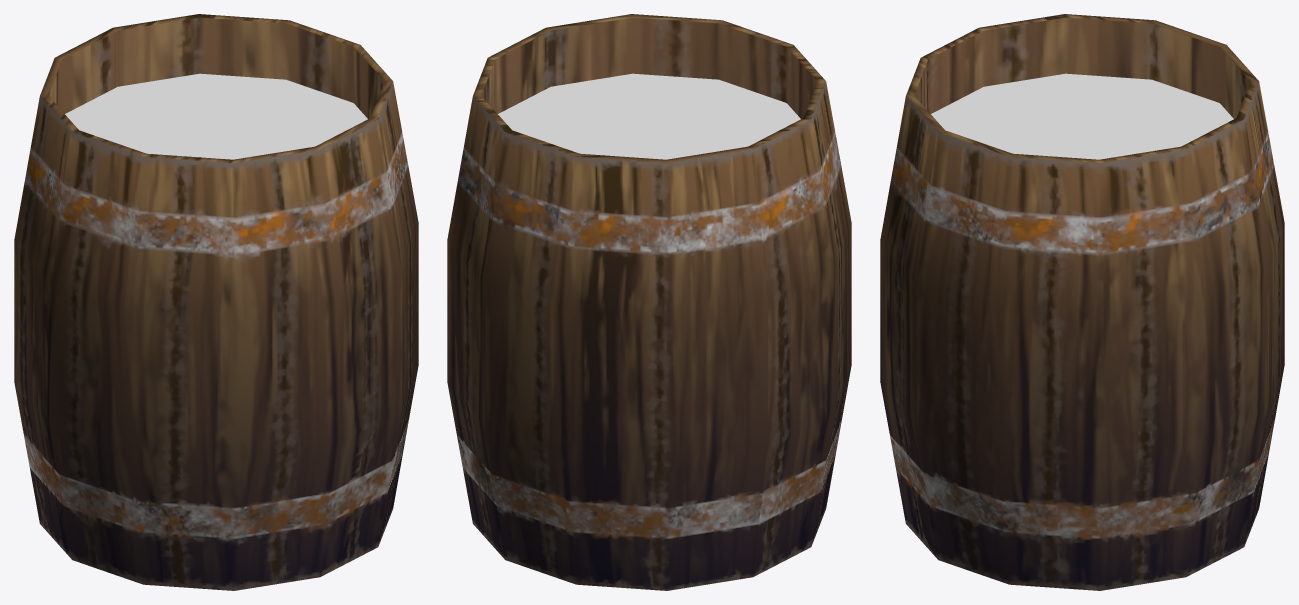
File: F_WaterBarrel.fbx
3 views of the same model, side by side, from view 1: azimuth 30°, elevation 25°; view 2: azimuth 150°, elevation 25°; view 3: azimuth 270°, elevation 25° (orthographic).
Parts seen in each view (by area): view 1: Cube.043; view 2: Cube.043; view 3: Cube.043.
Part boxes in pixels (x1=…): Cube.043: x1=14, y1=14, x2=418, y2=590; Cube.043: x1=447, y1=14, x2=851, y2=590; Cube.043: x1=880, y1=14, x2=1284, y2=590.
Bounding box in the file's own units: 116 × 136 × 116.
